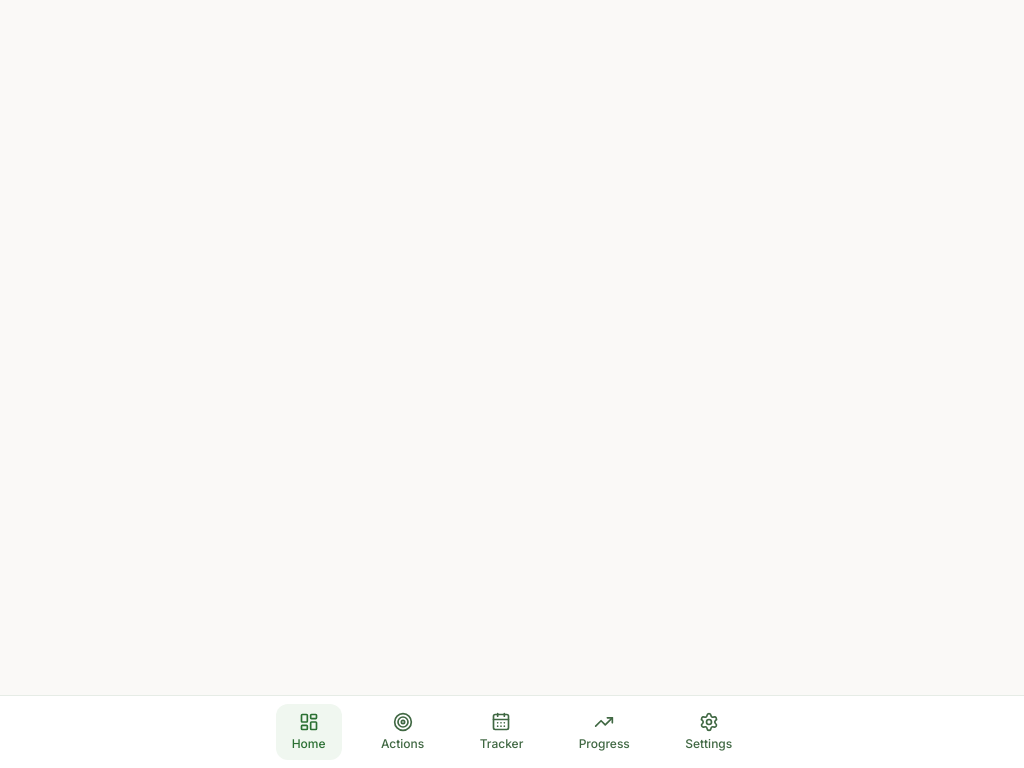
Test: Navigation › clicking settings opens the AI settings panel
The width and height of the screenshot is (1024, 768).
Click the button with aria-label "open ai settings" at (709, 732), box [669,704,748,760]
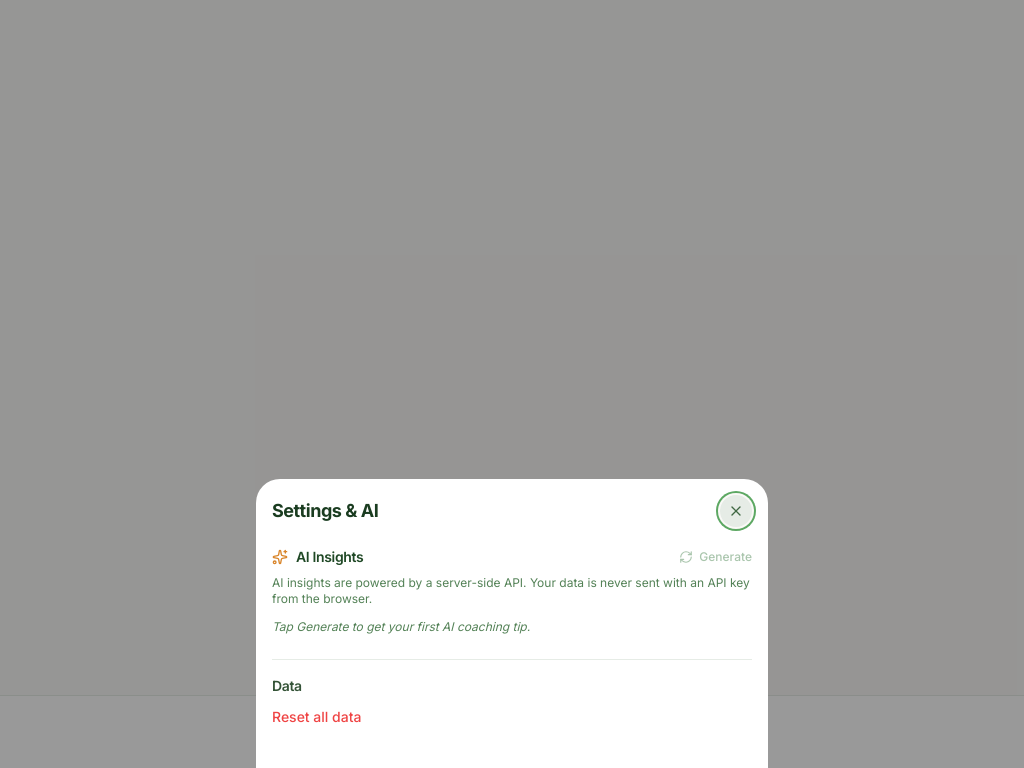
Now the dialog is shown, box [256,479,768,767]
